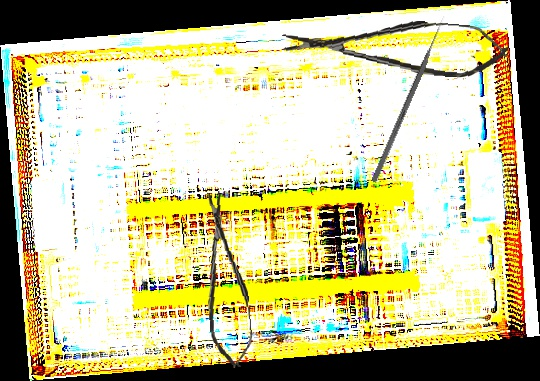Micro Scissor: (280, 9, 510, 82), (198, 189, 255, 370)
Pusher: (371, 14, 447, 184)
